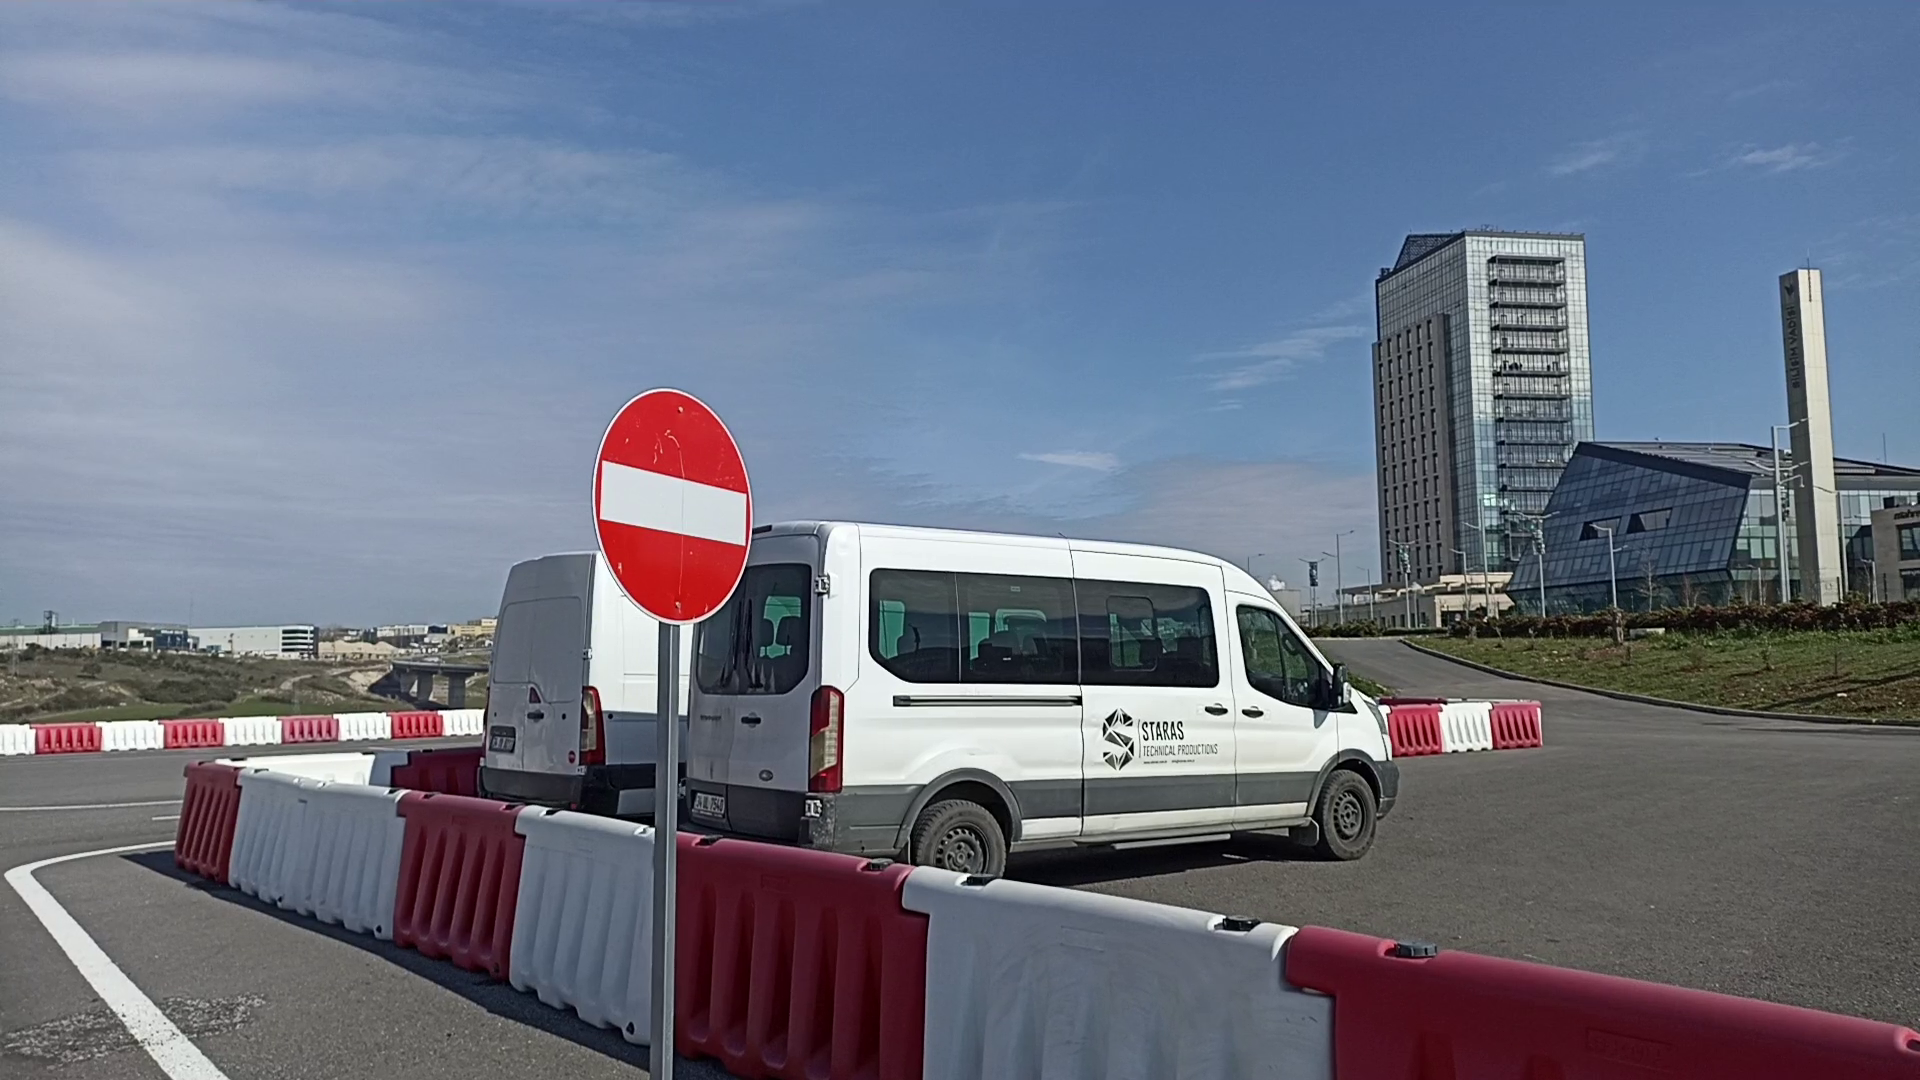noentryway: (588, 382, 758, 626)
